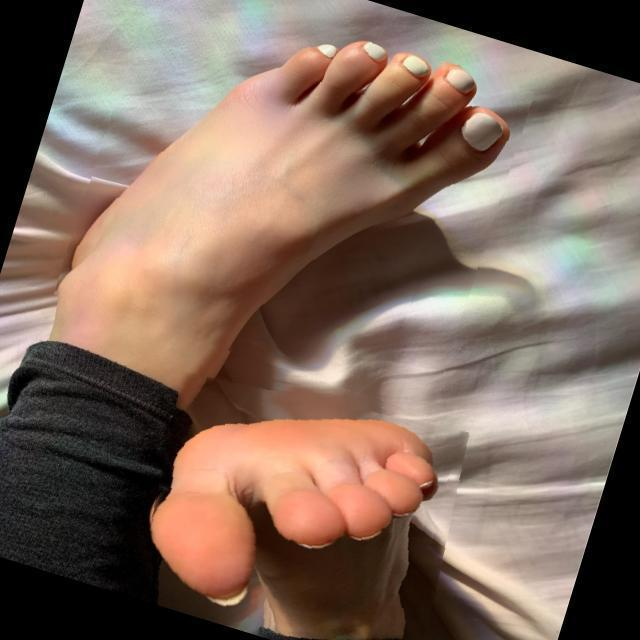Barefoots: (29, 33, 531, 415), (166, 388, 442, 640)
